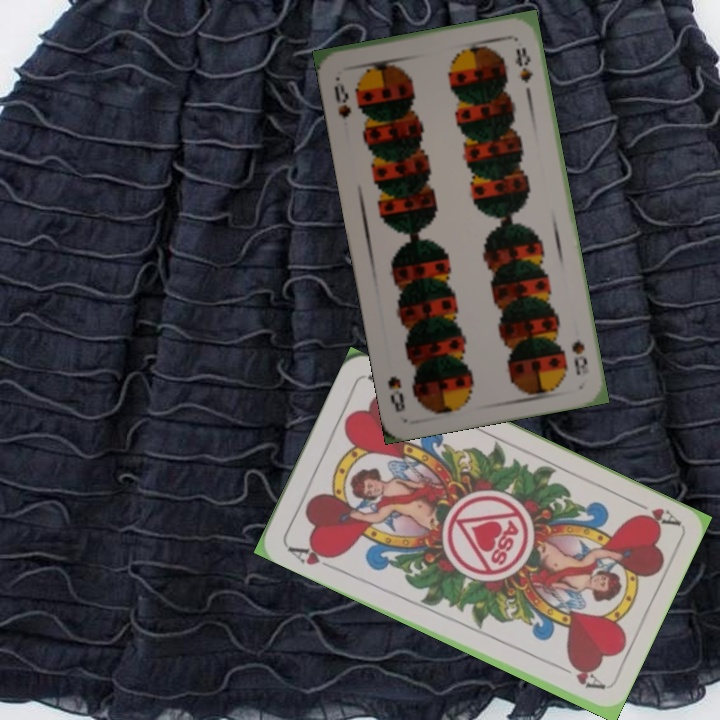HA: (625, 495, 681, 530), (283, 540, 339, 573)
S8: (330, 72, 354, 120), (567, 337, 590, 378)
